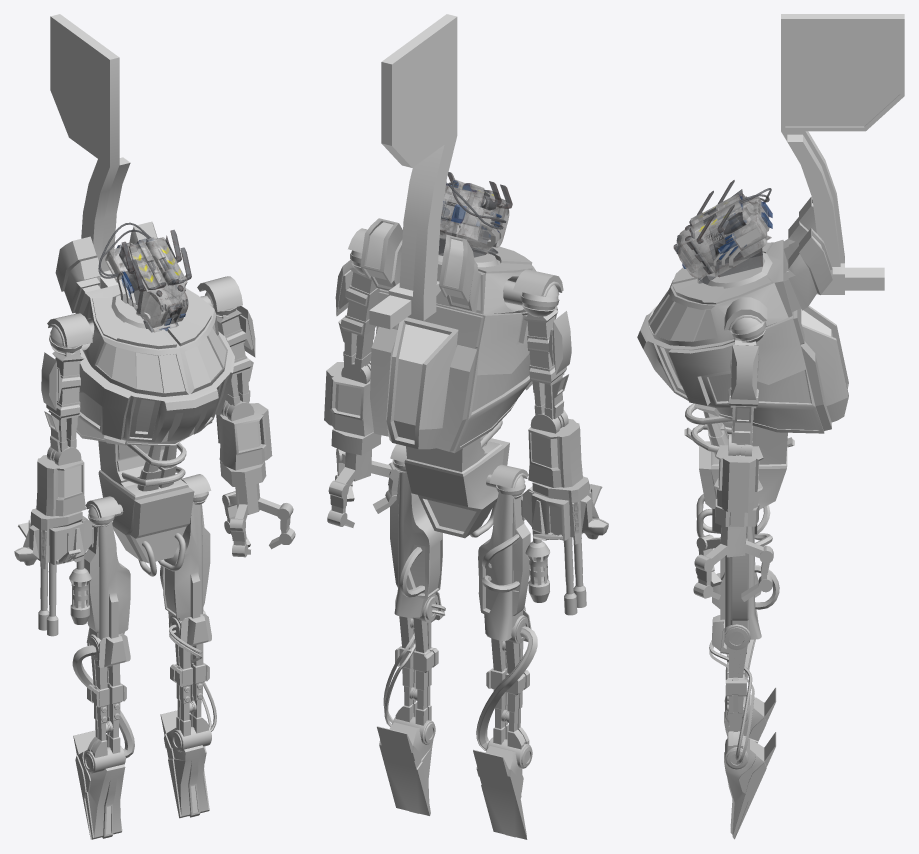
The model's file is BC Mainmenu hangerrobot.fbx.
3 renders of one model, left to right at view 1: azimuth 30°, elevation 25°; view 2: azimuth 150°, elevation 25°; view 3: azimuth 270°, elevation 25°, orthographic. The views are drawn at different scales.
Visible parts, largest first — view 1: Hanger_robot; view 2: Hanger_robot; view 3: Hanger_robot.
Part boxes in pixels (box(x1,y1,x2,y2)): Hanger_robot: box(14, 14, 295, 839); Hanger_robot: box(324, 14, 608, 839); Hanger_robot: box(637, 14, 904, 839).
Size of the model in its own units: 1.87 by 5.14 by 1.58.
